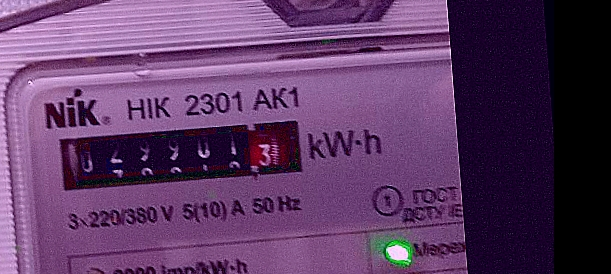0: (75, 146, 95, 174), (193, 131, 211, 161)
1: (224, 128, 239, 157)
2: (104, 137, 124, 166)
3: (254, 140, 273, 167)
9: (134, 135, 152, 163), (165, 134, 180, 162)
screen: (48, 109, 313, 201)
